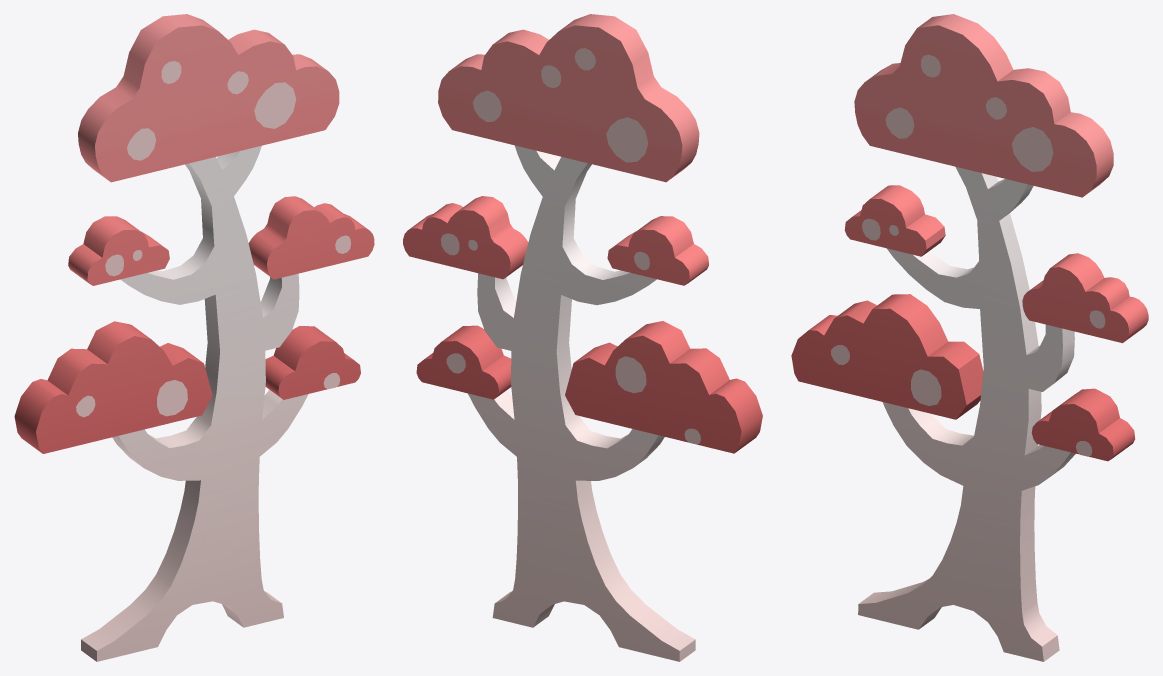
Rendered from Doll_OB_ToyTree_3.fbx.
The picture shows the model from 3 angles, left to right: view 1: azimuth 30°, elevation 25°; view 2: azimuth 150°, elevation 25°; view 3: azimuth 330°, elevation 25°; orthographic projection.
Visible parts, largest first — view 1: Doll_OB_ToyTree_3; view 2: Doll_OB_ToyTree_3; view 3: Doll_OB_ToyTree_3.
Boxes of the visible parts, left/top/right/bottom form: Doll_OB_ToyTree_3: left=14, top=14, right=374, bottom=661; Doll_OB_ToyTree_3: left=403, top=14, right=762, bottom=661; Doll_OB_ToyTree_3: left=791, top=14, right=1148, bottom=661.
Bounding box in the file's own units: 28.83 × 50.01 × 3.3.
Materials: 1 (1 with a texture image).
